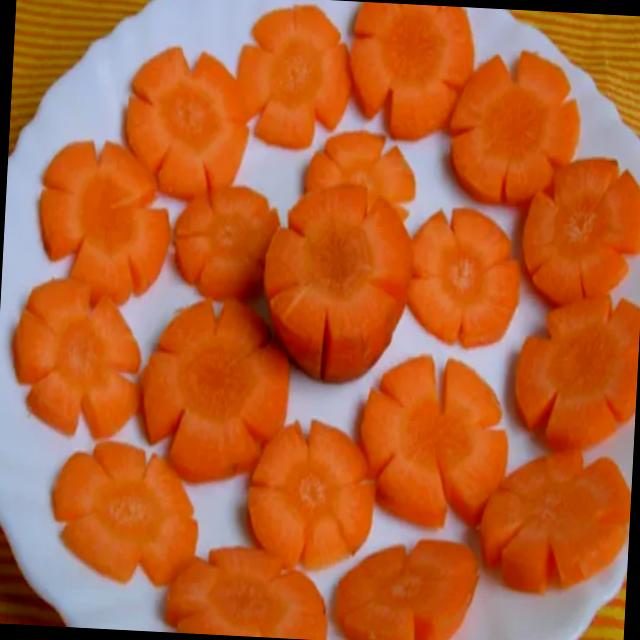ca rot: (125, 2, 640, 590), (141, 133, 518, 479), (54, 356, 511, 639), (12, 141, 170, 438), (335, 541, 477, 640)
